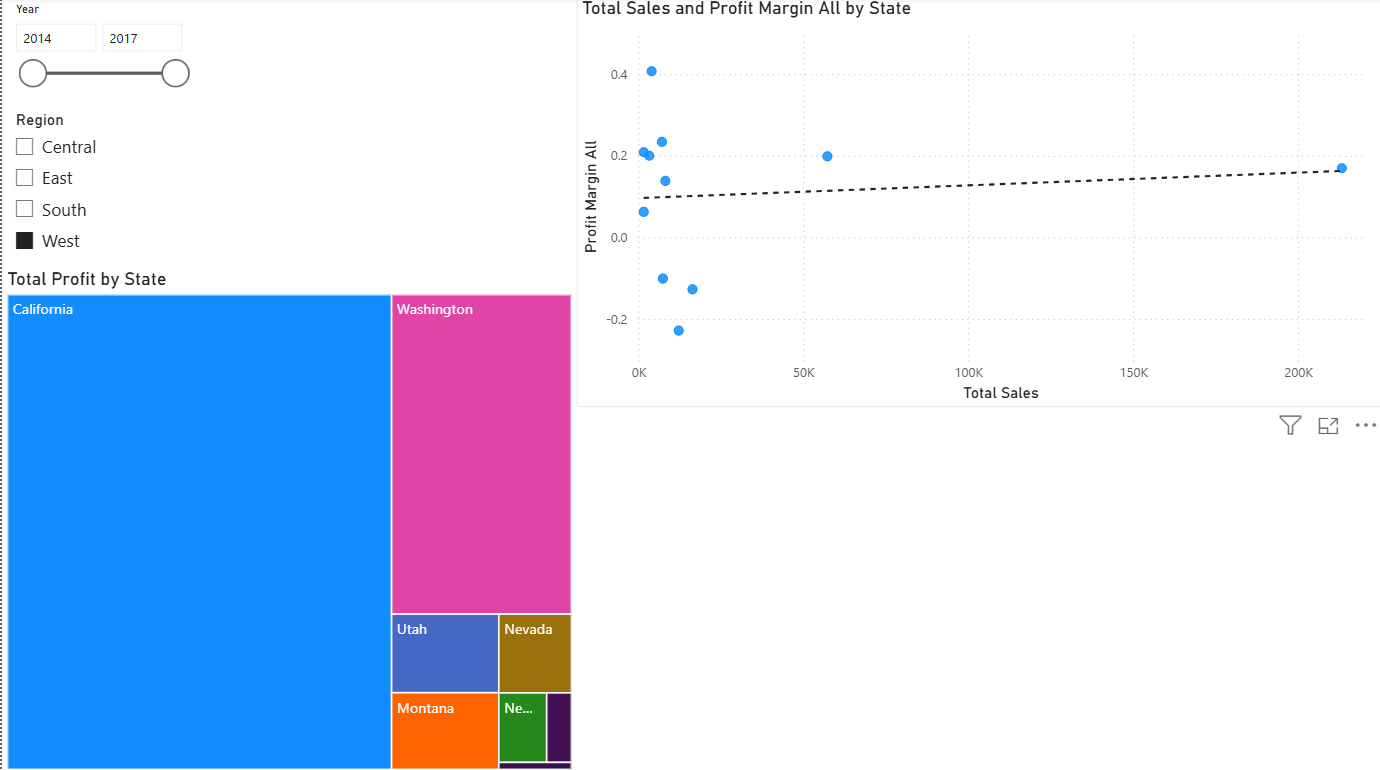

The page's visual inventory and layout, read from the dashboard file:
{"tool":"powerbi","page":{"name":"Regional Performance","canvas":[1280,720],"ordinal":1},"visuals":[{"type":"treemap","fields":{"Group":["Orders.State","Orders.Region"],"Values":["Orders.Total Profit"]},"box":[0,251.4,532.1,469.3],"z":0},{"type":"scatterChart","fields":{"X":["Orders.Total Sales"],"Y":["Orders.Profit Margin All"],"Category":["Orders.State"]},"box":[531.9,0,747.8,378.8],"z":1000},{"type":"slicer","fields":{"Values":["Orders.Year"]},"box":[0,0,181.6,100.6],"z":2000},{"type":"slicer","fields":{"Values":["Orders.Region"]},"box":[0,100.6,181.6,153.6],"z":3000}]}

Visuals, with their boxes in screenshot pixels (x1, y1, x2, y2), scaled from the page's 1280x720 canvas onto the 1380x770 screenshot:
treemap - Orders.State x Orders.Region: crop(0, 269, 574, 769)
scatterChart - Orders.Total Sales x Orders.Profit Margin All: crop(573, 0, 1379, 405)
slicer - Orders.Year: crop(0, 0, 196, 108)
slicer - Orders.Region: crop(0, 108, 196, 272)
